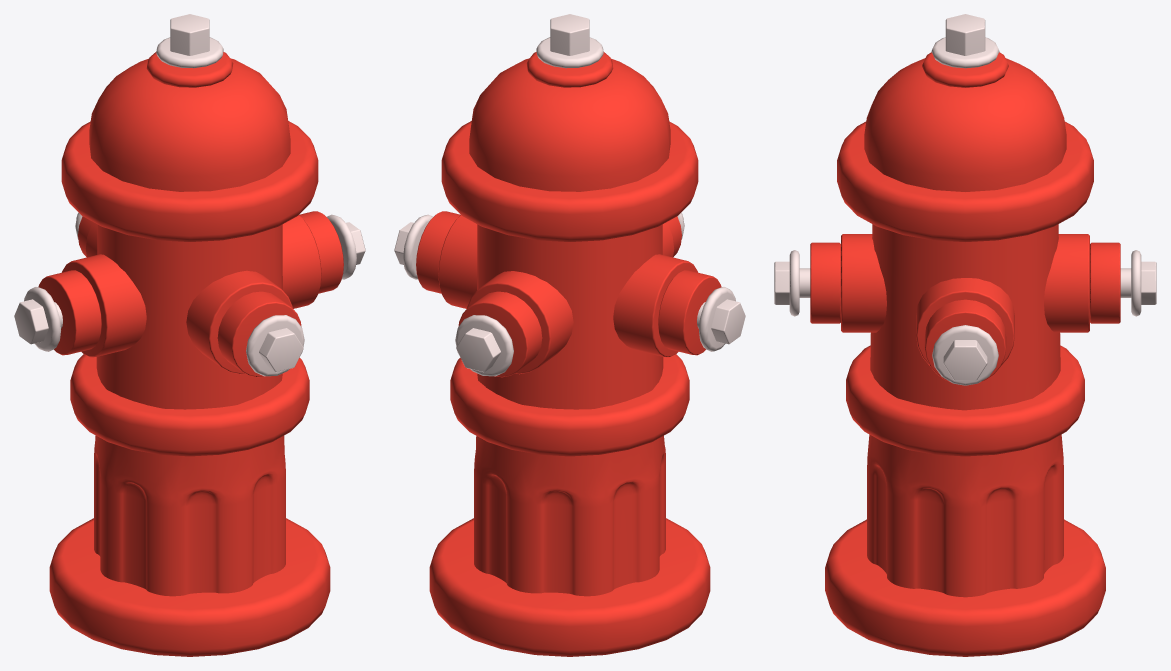
The model's file is Public_11_Fire_Hydrant_1.glb.
3 renders of one model, left to right at view 1: azimuth 30°, elevation 25°; view 2: azimuth 150°, elevation 25°; view 3: azimuth 270°, elevation 25°, orthographic.
Parts seen in each view (by area): view 1: Public_11_Fire_Hydrant_1; view 2: Public_11_Fire_Hydrant_1; view 3: Public_11_Fire_Hydrant_1.
Boxes of the visible parts, x1,y1,x2,y2 form: Public_11_Fire_Hydrant_1: (14,14,365,656); Public_11_Fire_Hydrant_1: (394,14,745,656); Public_11_Fire_Hydrant_1: (774,14,1156,656).
Size of the model in its own units: 1.13 by 1.89 by 1.13.
1 material, 1 textured.
